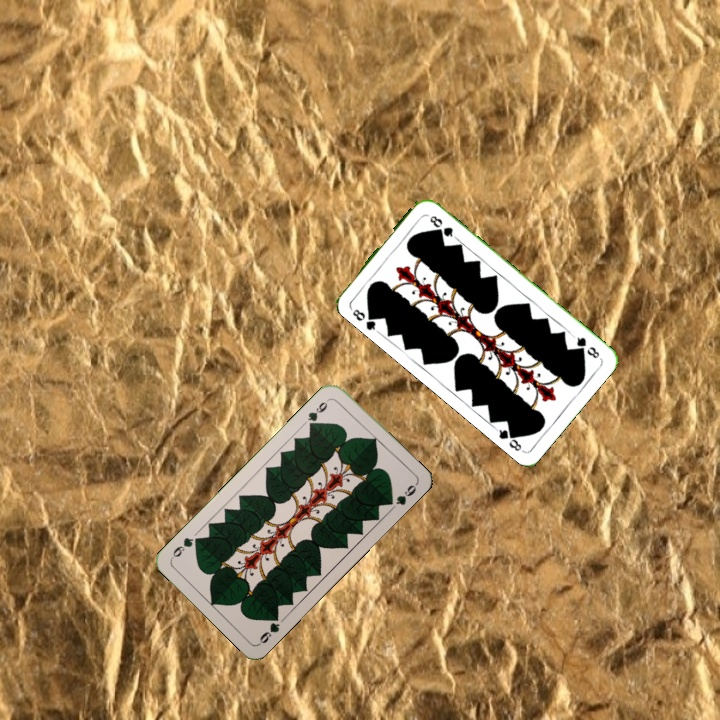G8: (569, 331, 602, 361), (349, 305, 381, 334)
G9: (303, 394, 333, 431), (255, 609, 282, 647)
